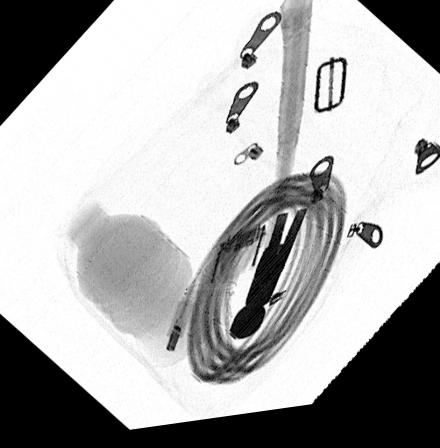Hammer: (227, 0, 315, 348)
